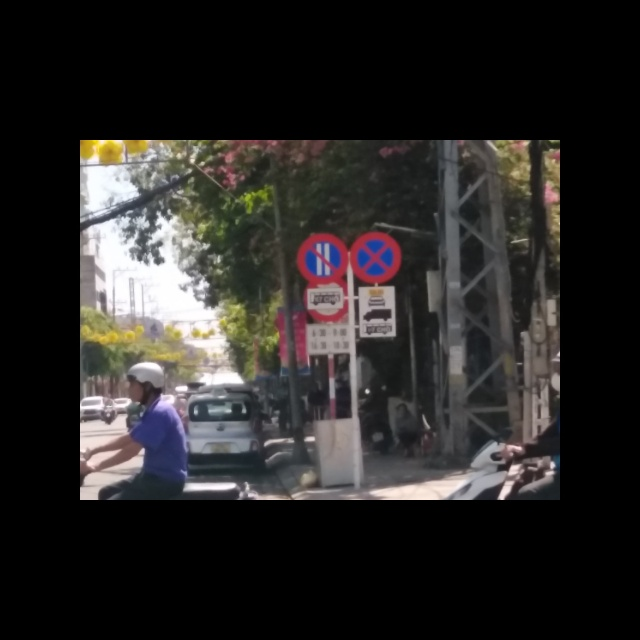Cấm dừng xe và đỗ xe: (349, 231, 403, 284)
Cấm đỗ xe ngày chẵn: (296, 233, 348, 283)
